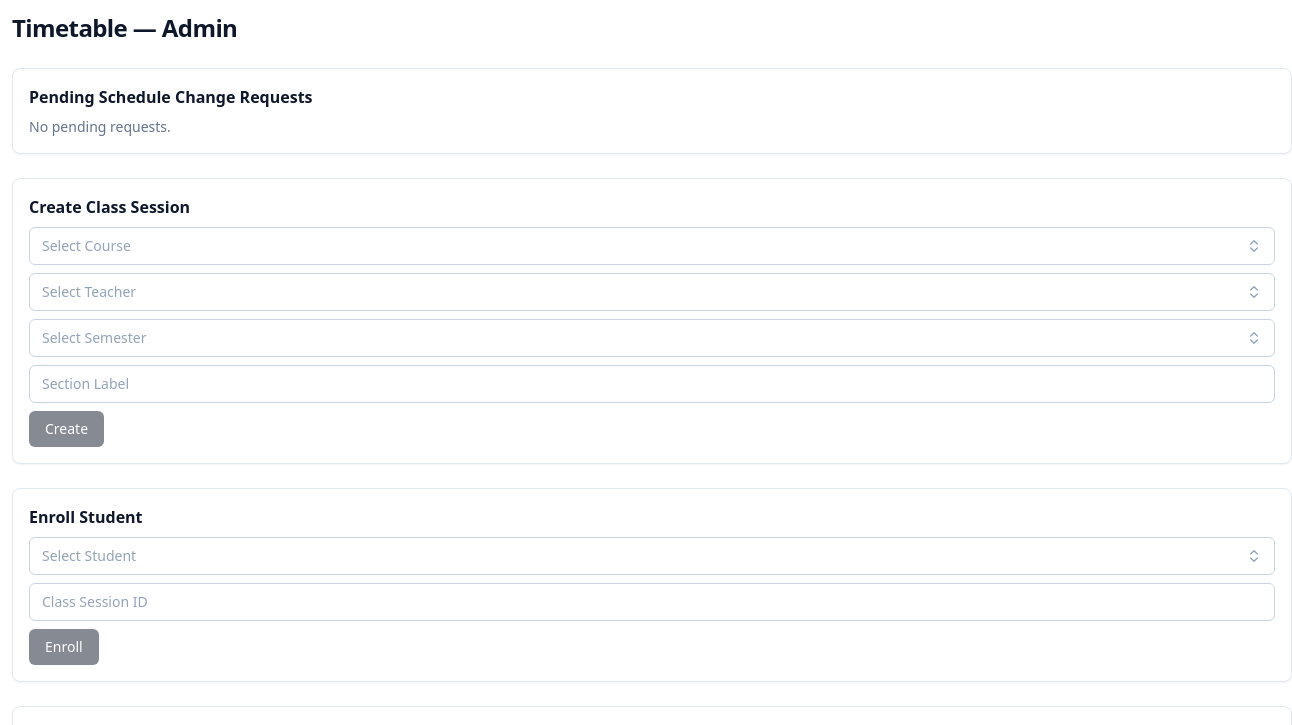
it: Timetable Admin Schedule Panel › keeps the Create button disabled until course/teacher/semester are all selected
expect the button "Create" is disabled: met, box [29,411,104,447]
Click the button "Select Course" at (86, 246), box [29,227,1275,265]
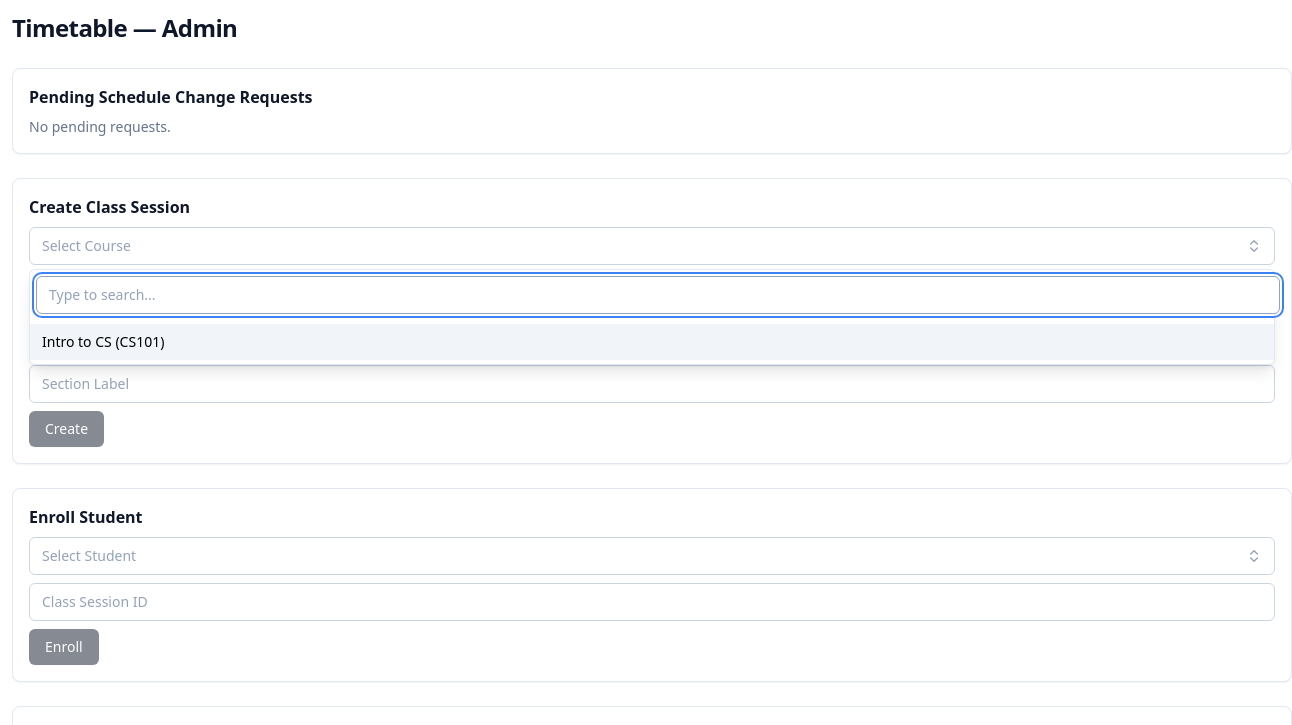
Click the option "Intro to CS (CS101)" at (103, 342), box [30,324,1274,360]
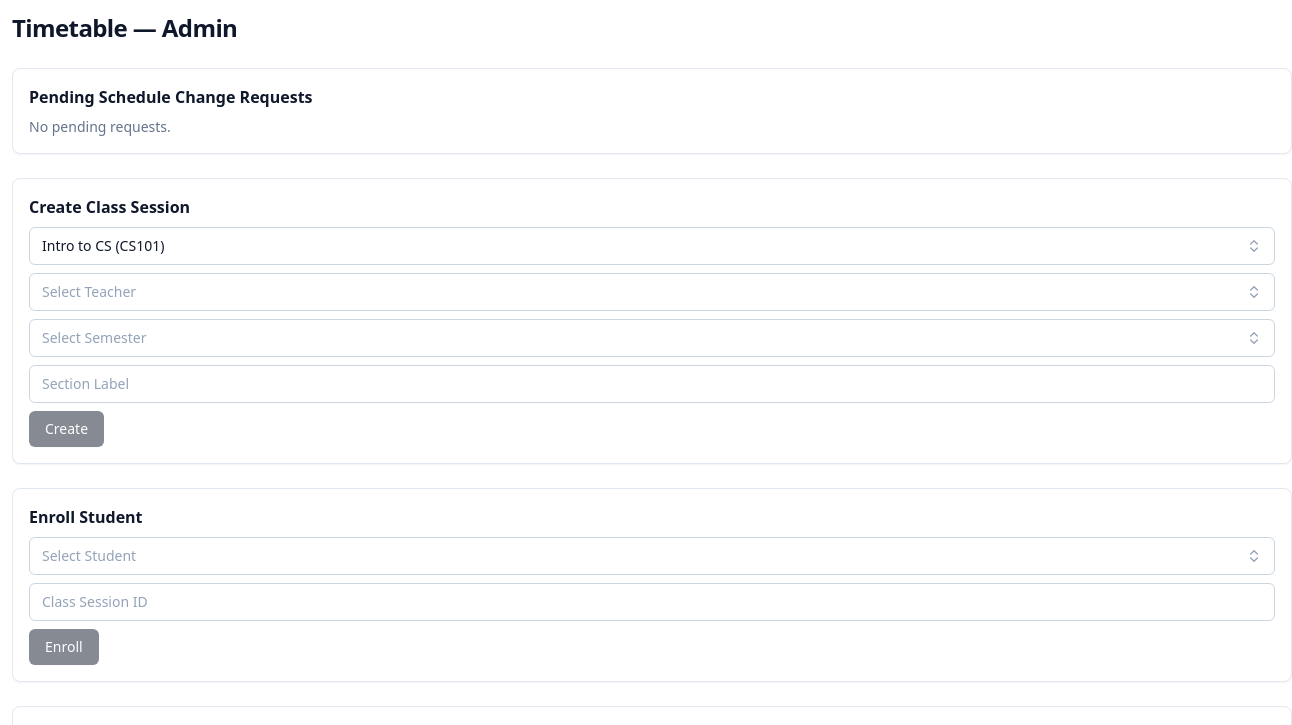
expect the button "Create" is disabled: met, box [29,411,104,447]
Click the button "Select Teacher" at (89, 292), box [29,273,1275,311]
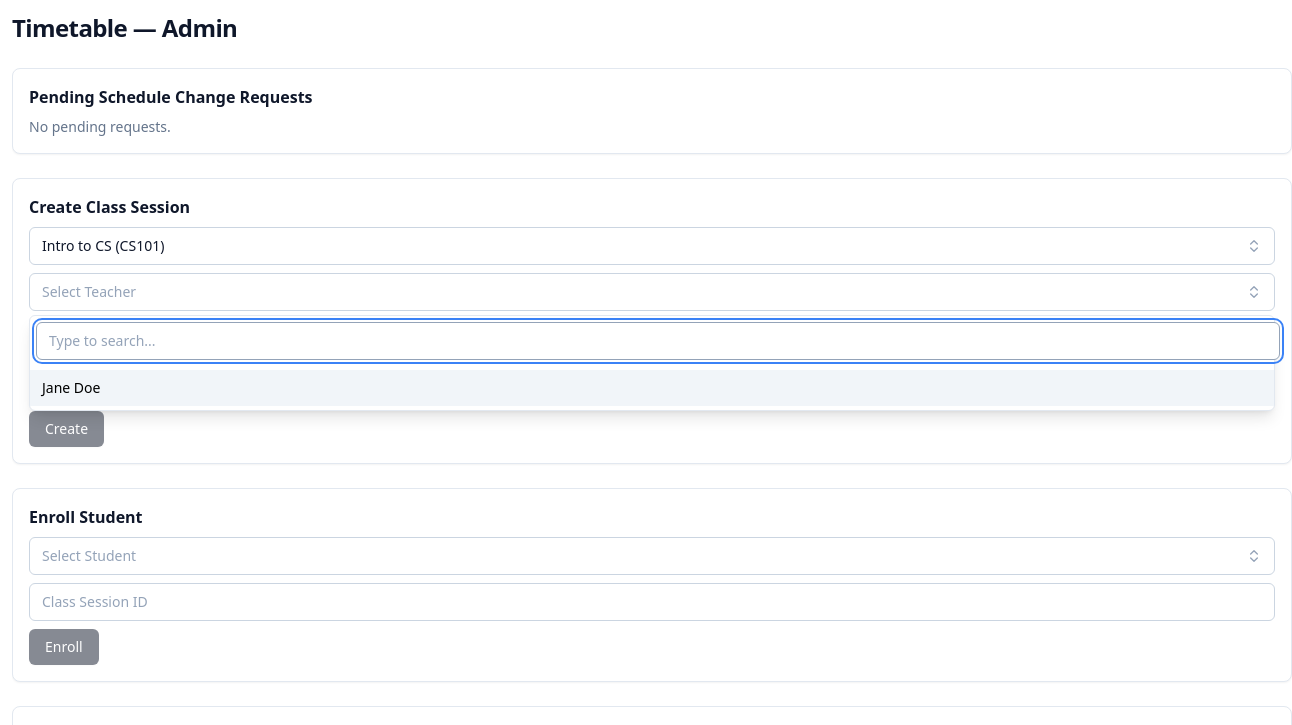
Click the option "Jane Doe" at (71, 388), box [30,370,1274,406]
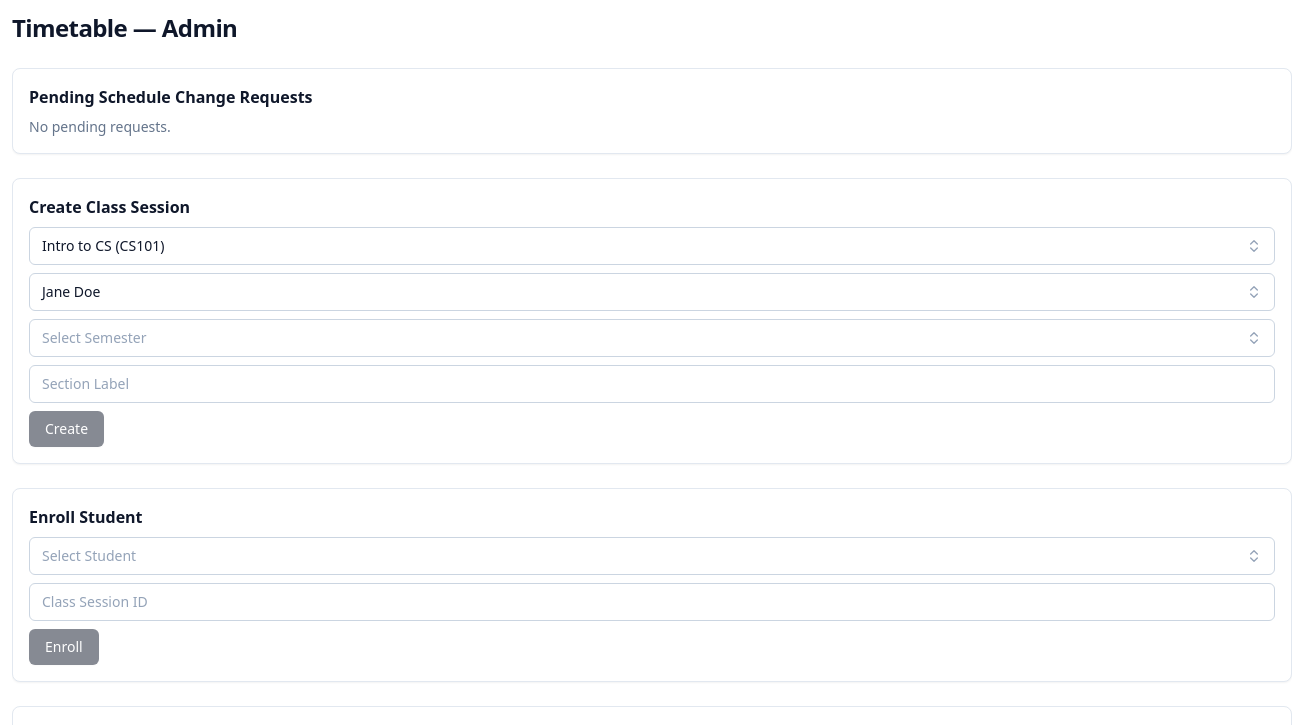
Click the button "Select Semester" at (94, 338), box [29,319,1275,357]
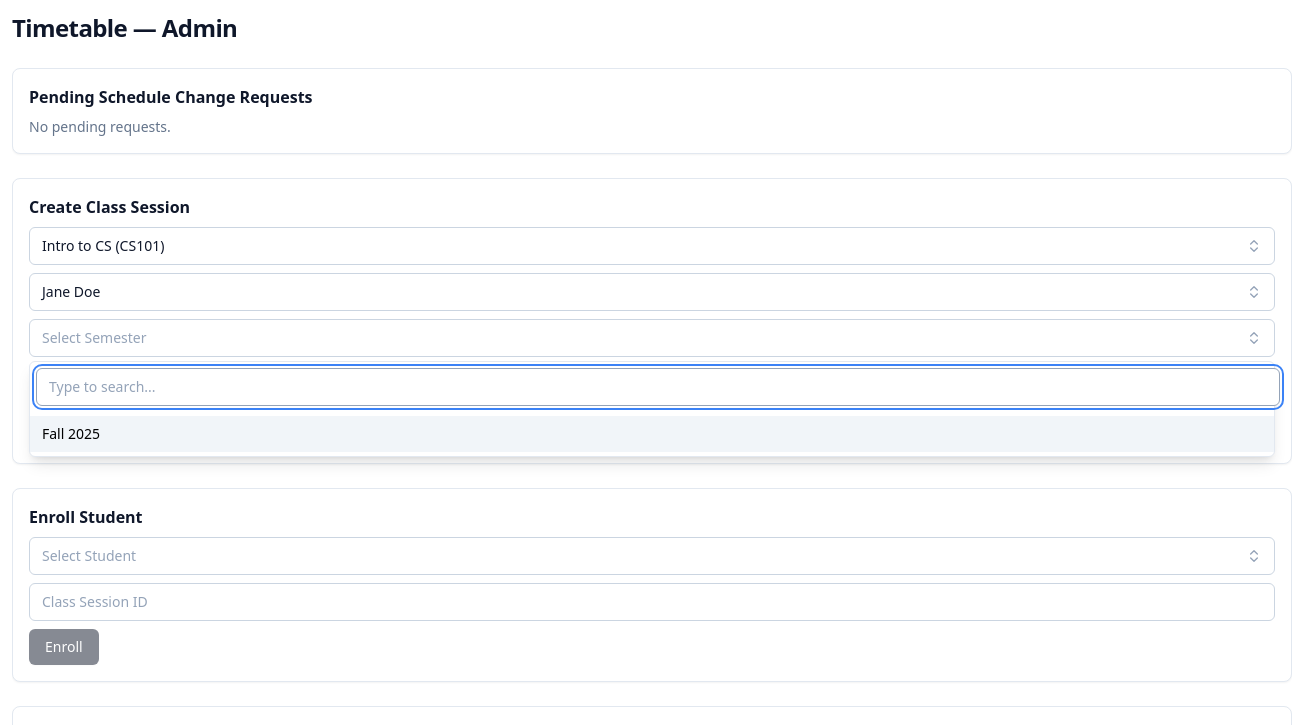
Click the option "Fall 2025" at (71, 434), box [30,416,1274,452]
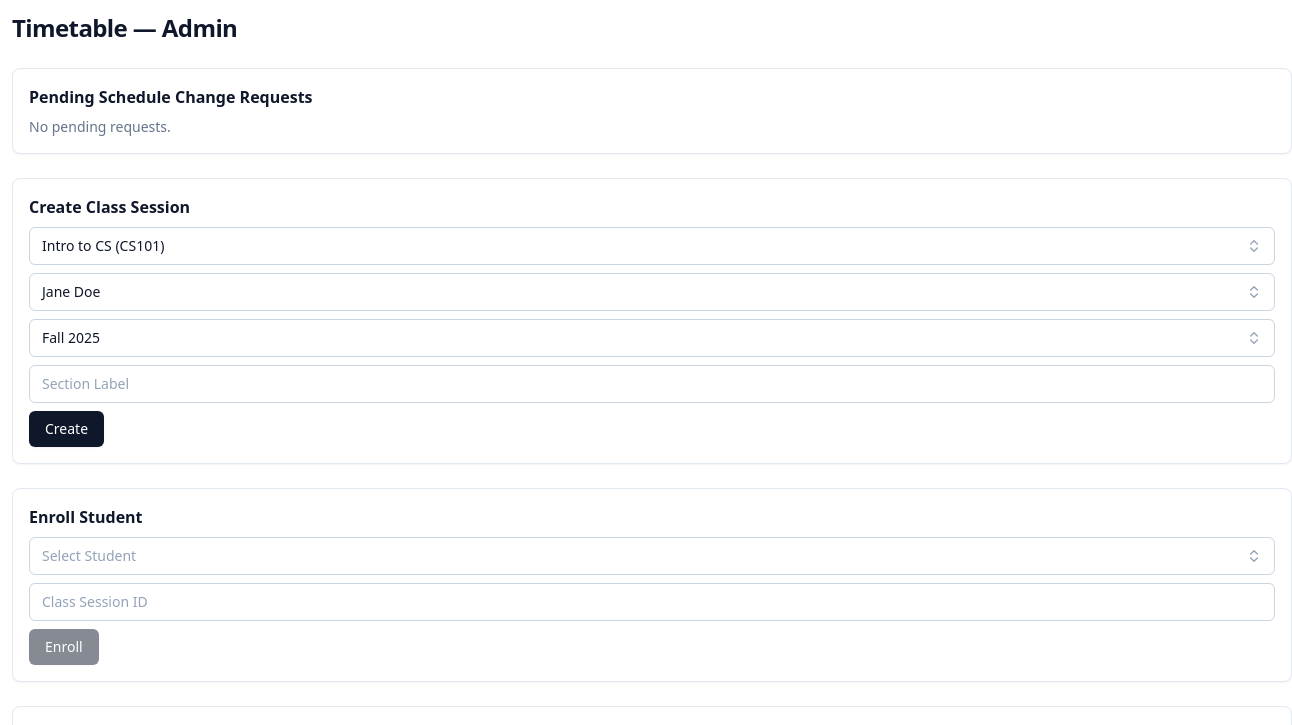
expect the button "Create" is enabled: met, box [29,411,104,447]
